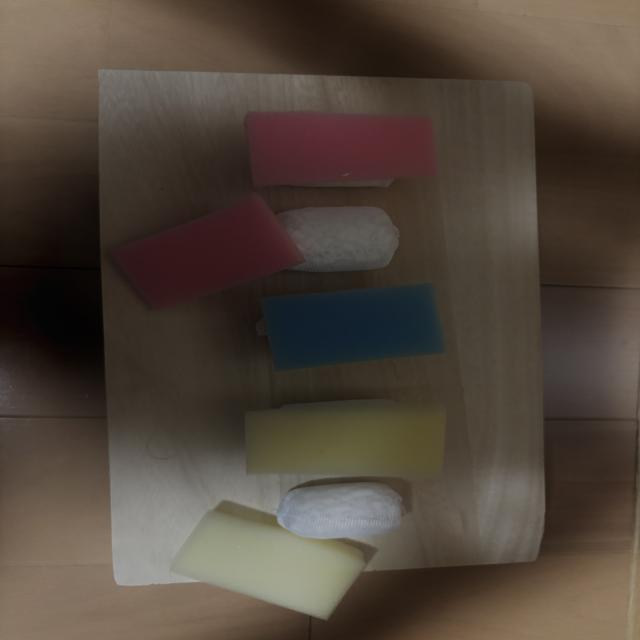NG: (113, 194, 399, 309), (170, 482, 402, 619)
ika: (255, 284, 445, 371)
tai: (244, 111, 436, 187)
tamago: (245, 400, 446, 477)
